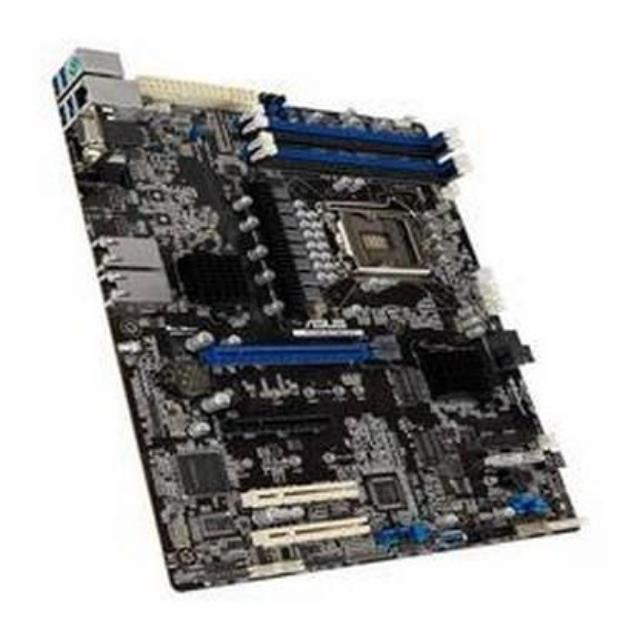Mainboard: (76, 77, 590, 583)
